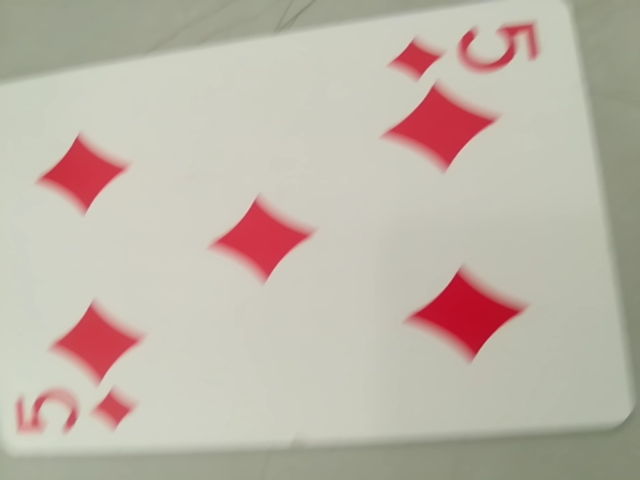fk 5: (388, 13, 549, 88), (9, 377, 146, 451)
